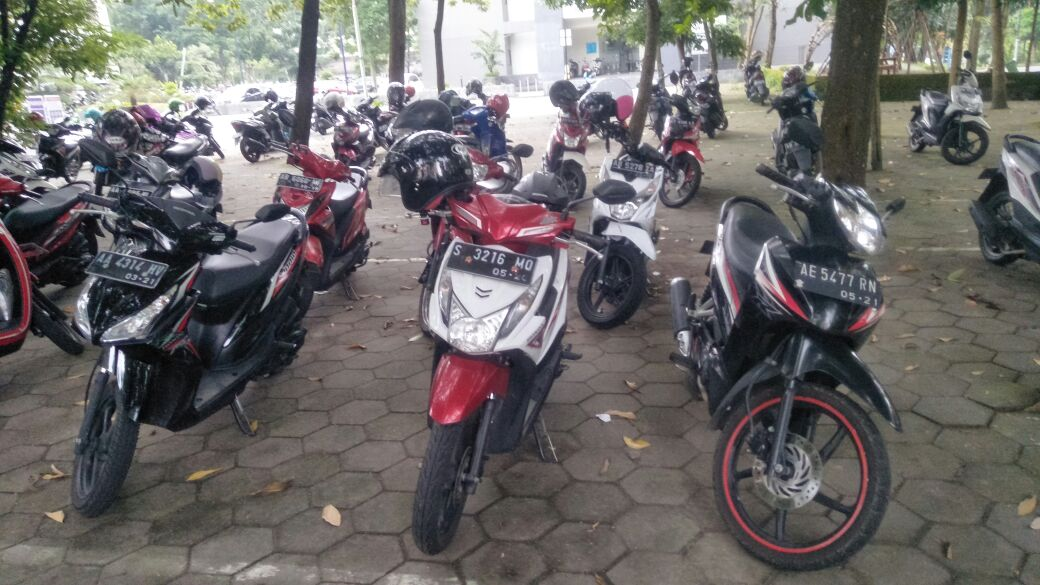plate: (448, 241, 537, 289), (791, 260, 881, 306), (86, 251, 171, 291), (275, 170, 324, 195), (612, 158, 653, 177)
